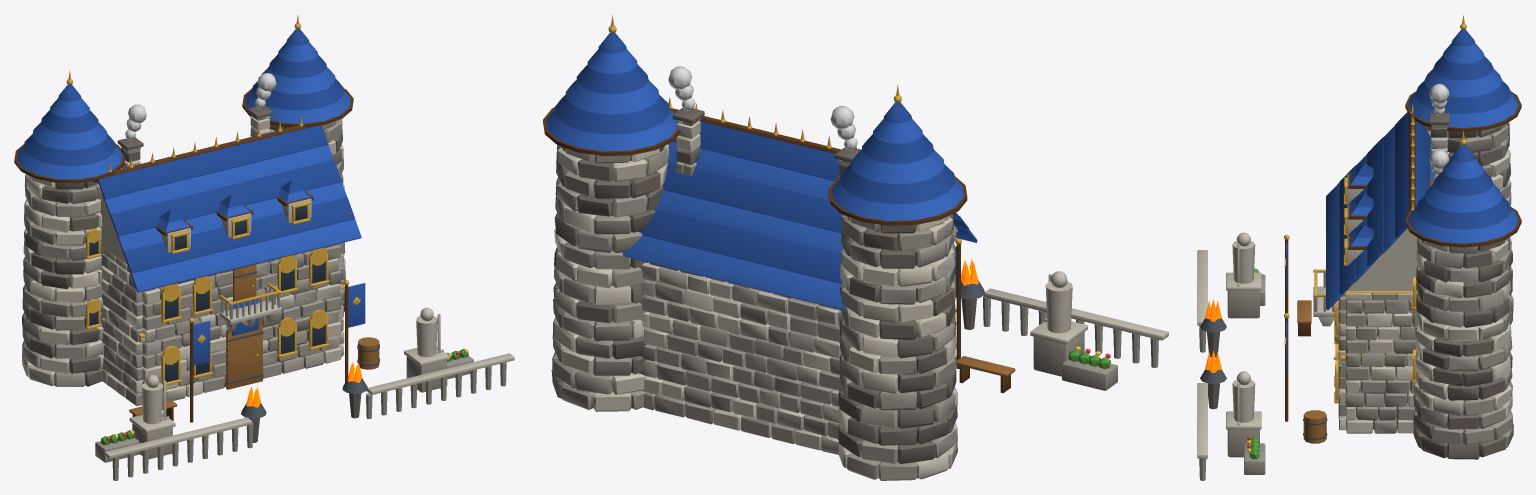
File: budynek_glowny_poz17.glb
The picture shows the model from 3 angles, left to right: view 1: azimuth 30°, elevation 25°; view 2: azimuth 150°, elevation 25°; view 3: azimuth 270°, elevation 25°; orthographic projection. The views are drawn at different scales.
Visible parts, largest first — view 1: budynek_glowny_poz17; view 2: budynek_glowny_poz17; view 3: budynek_glowny_poz17.
Boxes of the visible parts, x1,y1,x2,y2 form: budynek_glowny_poz17: (14,15,514,480); budynek_glowny_poz17: (543,15,1168,480); budynek_glowny_poz17: (1197,14,1521,480).
Bounding box in the file's own units: 13.6 × 9.59 × 9.08.
